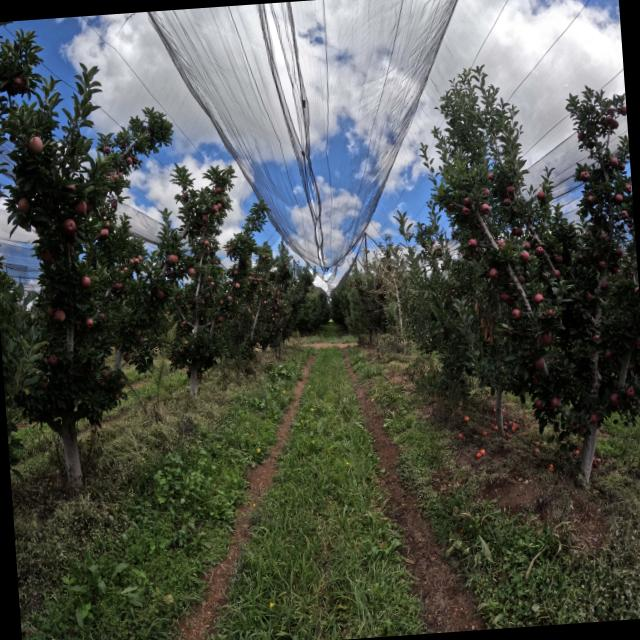-FireBlight-: (466, 293, 495, 345)
